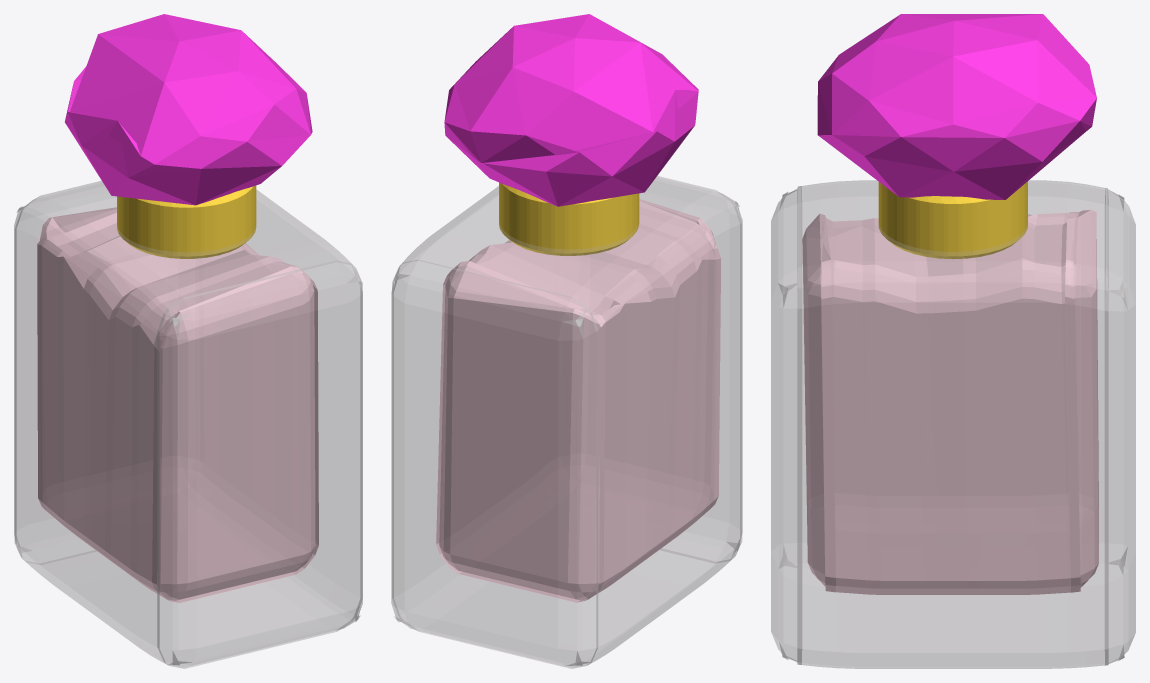
The picture shows the model from 3 angles, left to right: view 1: azimuth 30°, elevation 25°; view 2: azimuth 150°, elevation 25°; view 3: azimuth 270°, elevation 25°; orthographic projection. The views are drawn at different scales.
Parts seen in each view (by area): view 1: bottle, liquid, cap, mouth; view 2: bottle, liquid, cap, mouth; view 3: bottle, liquid, cap, mouth.
Boxes of the visible parts, x1,y1,x2,y2 form: bottle: (14,181,362,668); liquid: (37,207,318,602); cap: (65,14,312,205); mouth: (117,185,256,258); bottle: (391,176,742,668); liquid: (436,199,721,602); cap: (444,14,698,206); mouth: (499,182,639,255); bottle: (771,180,1135,668); liquid: (802,209,1098,594); cap: (817,14,1096,199); mouth: (878,181,1027,259).
Size of the model in its own units: 1.57 by 4.04 by 2.22.
